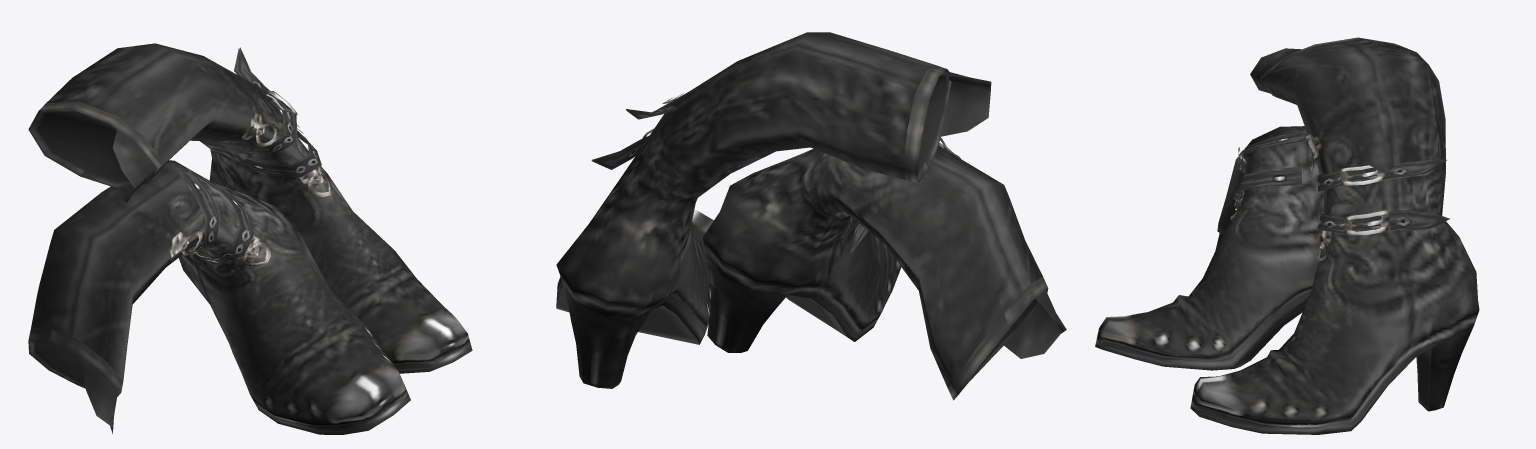
The model's file is Squaretoe_Boot_Ground.fbx.
The picture shows the model from 3 angles, left to right: view 1: azimuth 30°, elevation 25°; view 2: azimuth 150°, elevation 25°; view 3: azimuth 270°, elevation 25°; orthographic projection. The views are drawn at different scales.
Visible parts, largest first — view 1: Squaretoe_Boot; view 2: Squaretoe_Boot; view 3: Squaretoe_Boot.
Part boxes in pixels (x1,y1,x2,y2): Squaretoe_Boot: (28, 43, 472, 434); Squaretoe_Boot: (556, 32, 1066, 400); Squaretoe_Boot: (1095, 37, 1479, 434).
Size of the model in its own units: 0.1886 by 0.1512 by 0.1944.
